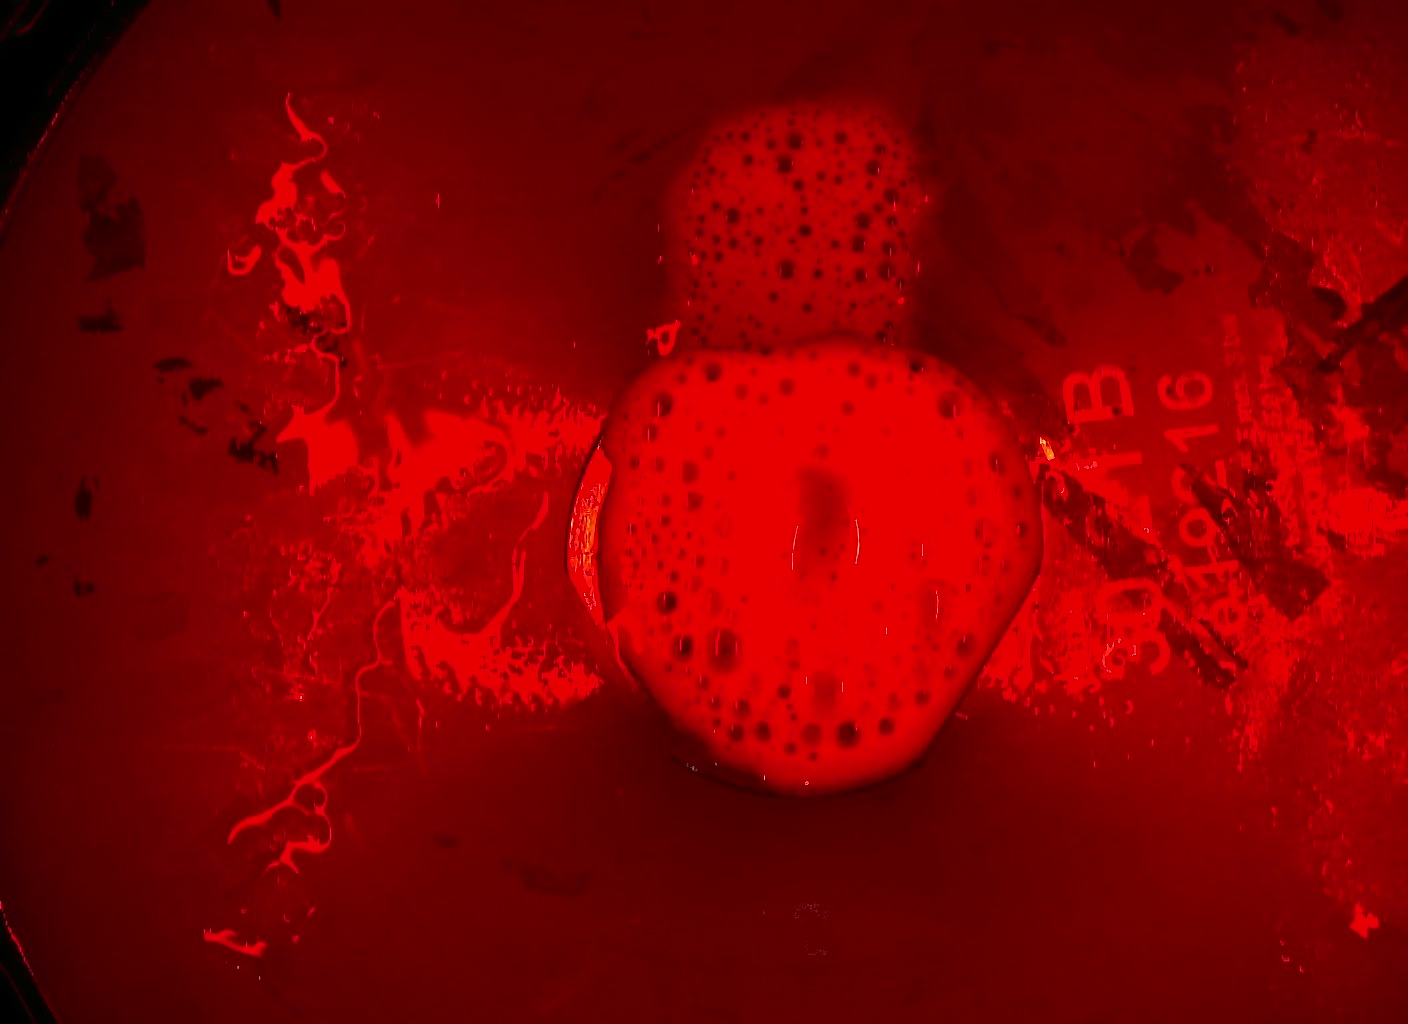pena: (636, 91, 950, 345)
shapka: (591, 348, 1043, 809)
